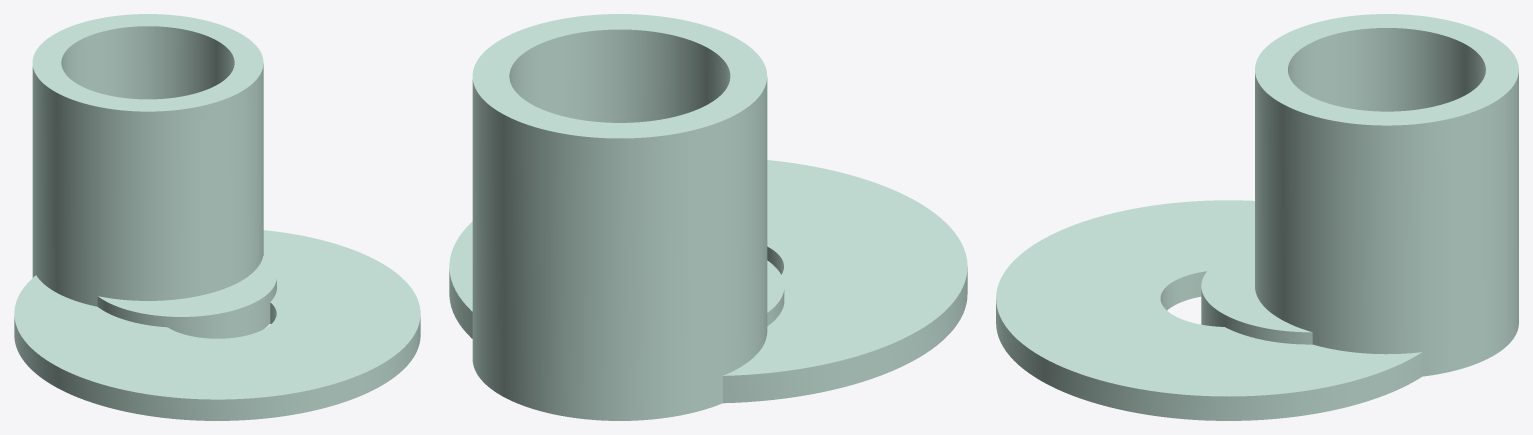
3 views of the same model, side by side, from view 1: azimuth 30°, elevation 25°; view 2: azimuth 150°, elevation 25°; view 3: azimuth 270°, elevation 25° (orthographic). The views are drawn at different scales.
Visible parts, largest first — view 1: Renderer Node; view 2: Renderer Node; view 3: Renderer Node.
Part boxes in pixels (x1,y1,x2,y2): Renderer Node: (14, 14, 420, 420); Renderer Node: (449, 14, 967, 420); Renderer Node: (996, 14, 1518, 420).
Size of the model in its own units: 0.8052 by 0.4844 by 0.9068.
